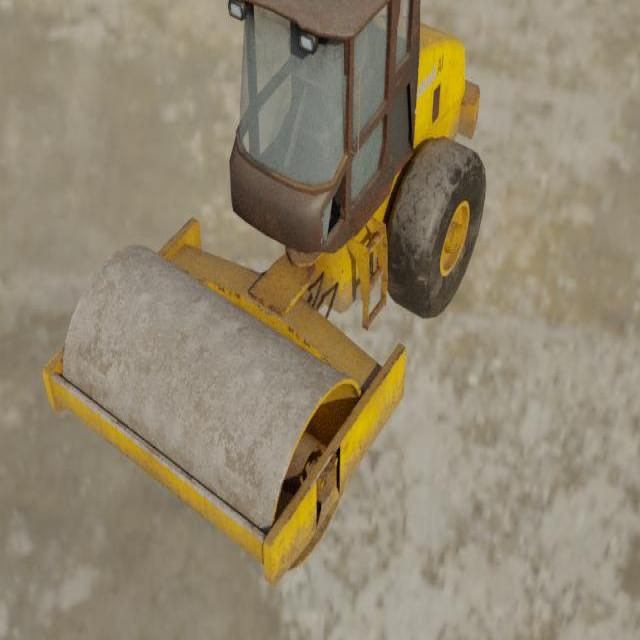Roller: (42, 0, 486, 588)
